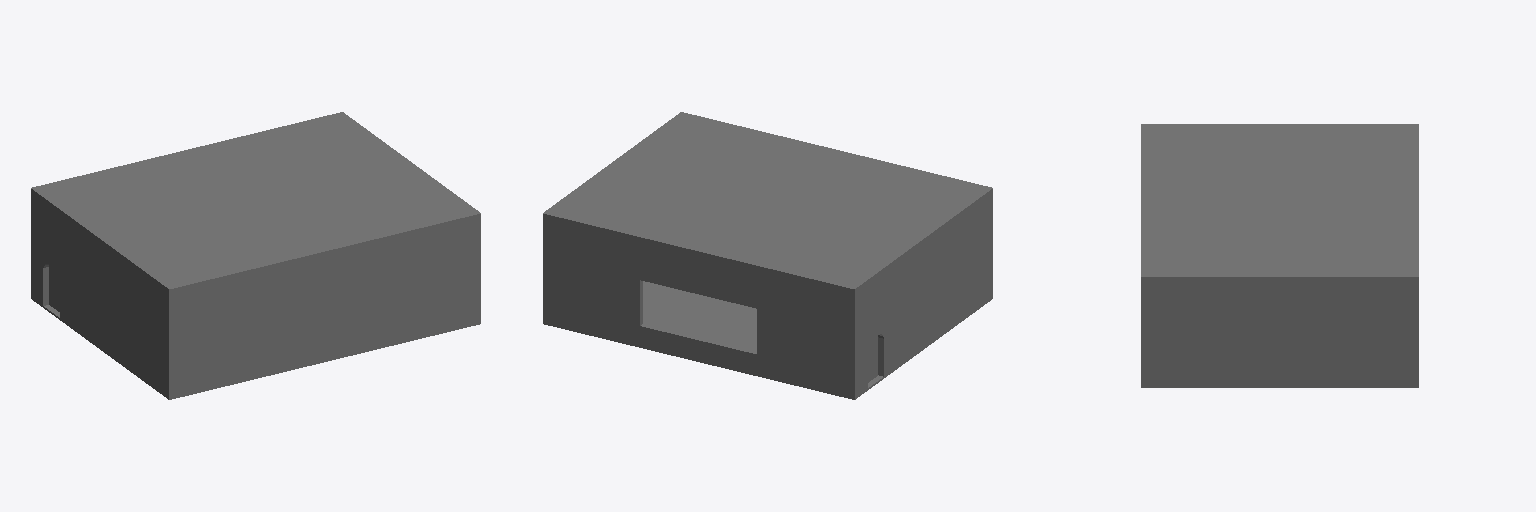
File: DashSculpturesjoined.obj
3 views of the same model, side by side, from view 1: azimuth 30°, elevation 25°; view 2: azimuth 150°, elevation 25°; view 3: azimuth 270°, elevation 25° (orthographic).
Parts seen in each view (by area): view 1: Cube.000_Cube.003; view 2: Cube.000_Cube.003; view 3: Cube.000_Cube.003.
Part boxes in pixels (left/top/right/bottom): Cube.000_Cube.003: left=31, top=112, right=480, bottom=399; Cube.000_Cube.003: left=543, top=112, right=992, bottom=399; Cube.000_Cube.003: left=1141, top=124, right=1418, bottom=387.
Bounding box in the file's own units: 6.19 × 2.1 × 4.76.